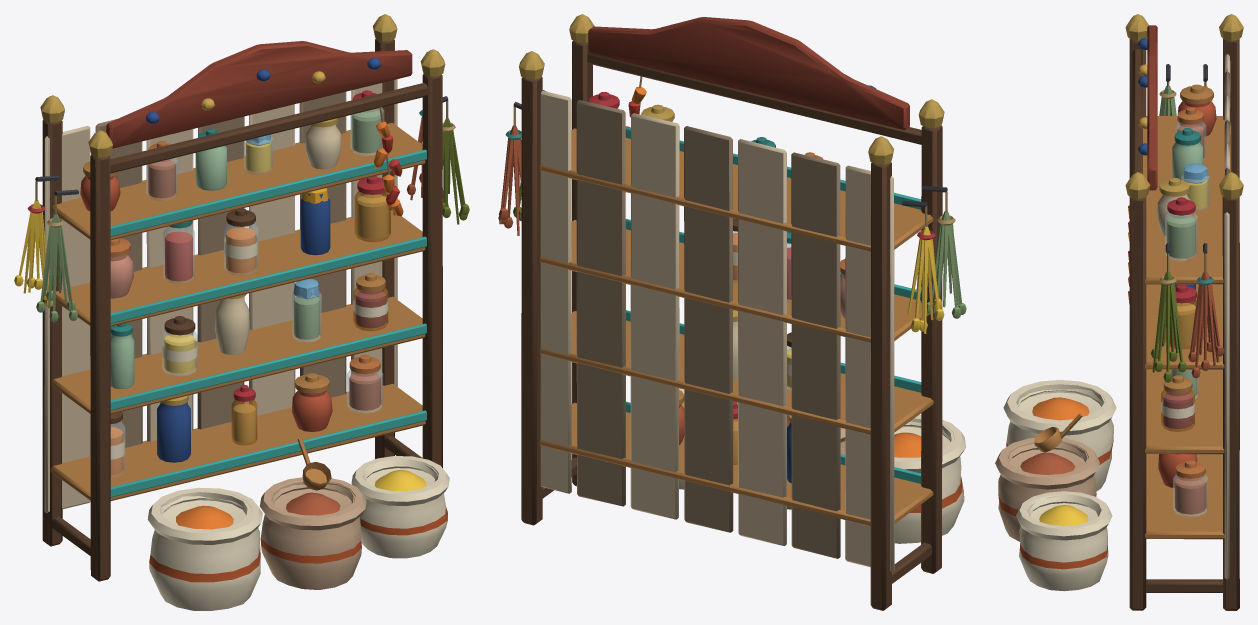
File: deco_spice_rack.fbx
The picture shows the model from 3 angles, left to right: view 1: azimuth 30°, elevation 25°; view 2: azimuth 150°, elevation 25°; view 3: azimuth 270°, elevation 25°; orthographic projection. The views are drawn at different scales.
Visible parts, largest first — view 1: SpiceRack_Shelf, SpiceRack_Jars, SpiceRack_Sacks, SpiceRack_Bundles; view 2: SpiceRack_Shelf, SpiceRack_Bundles, SpiceRack_Sacks, SpiceRack_Jars; view 3: SpiceRack_Shelf, SpiceRack_Sacks, SpiceRack_Jars, SpiceRack_Bundles.
Boxes of the visible parts, <box> form: SpiceRack_Shelf: <box>35,14,448,581</box>; SpiceRack_Jars: <box>80,90,390,477</box>; SpiceRack_Sacks: <box>147,438,449,610</box>; SpiceRack_Bundles: <box>14,100,469,322</box>; SpiceRack_Shelf: <box>513,14,947,610</box>; SpiceRack_Bundles: <box>498,76,966,333</box>; SpiceRack_Sacks: <box>679,388,966,543</box>; SpiceRack_Jars: <box>589,92,845,483</box>; SpiceRack_Shelf: <box>1125,14,1243,610</box>; SpiceRack_Sacks: <box>995,380,1116,591</box>; SpiceRack_Jars: <box>1157,84,1216,517</box>; SpiceRack_Bundles: <box>1128,81,1224,382</box>.
Bounding box in the file's own units: 233 × 252 × 120.
